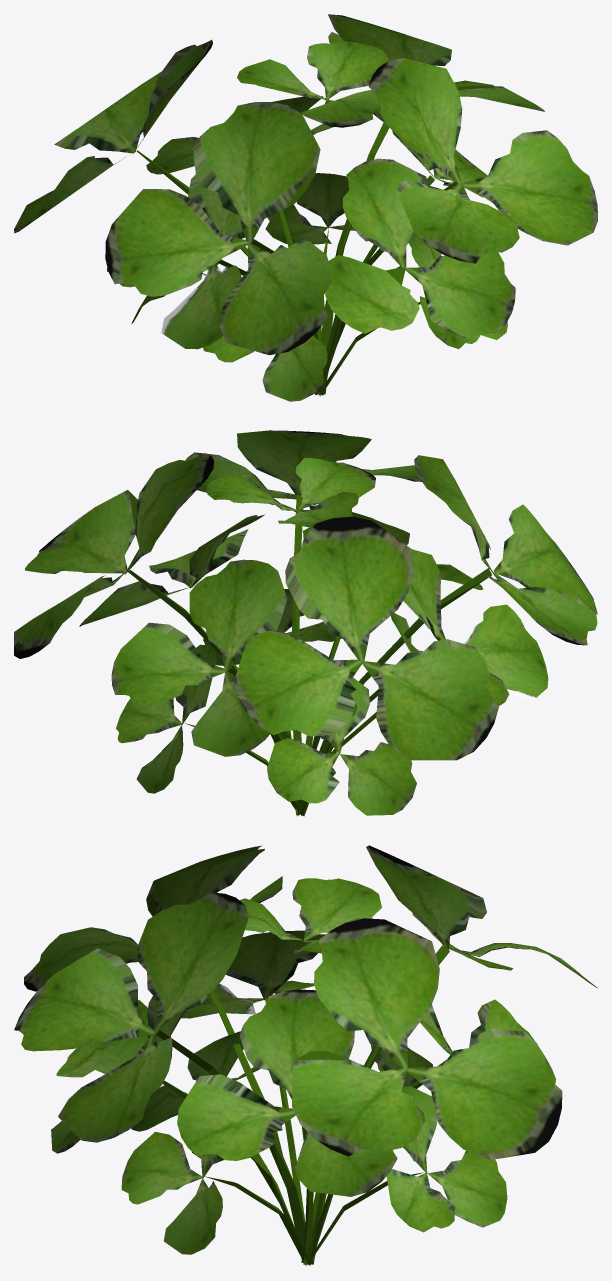
Rendered from low_poly_shrub_or_grass_clover.glb.
The picture shows the model from 3 angles, top to bottom: view 1: azimuth 30°, elevation 25°; view 2: azimuth 150°, elevation 25°; view 3: azimuth 270°, elevation 25°; orthographic projection. The views are drawn at different scales.
Visible parts, largest first — view 1: Plane.012; view 2: Plane.012; view 3: Plane.012.
Part boxes in pixels (x1=…): Plane.012: x1=14, y1=14, x2=597, y2=401; Plane.012: x1=14, y1=430, x2=597, y2=816; Plane.012: x1=14, y1=845, x2=597, y2=1265.
Size of the model in its own units: 0.44 by 0.3018 by 0.4193.
Materials: 1 (1 with a texture image).
